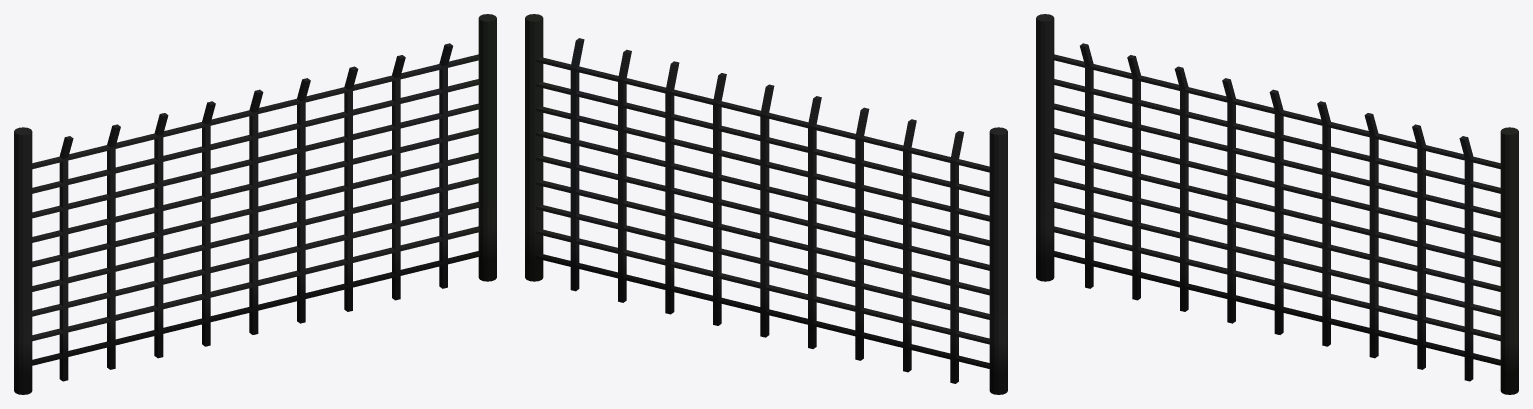
The model's file is Cerca.glb.
3 views of the same model, side by side, from view 1: azimuth 30°, elevation 25°; view 2: azimuth 150°, elevation 25°; view 3: azimuth 330°, elevation 25° (orthographic).
Parts seen in each view (by area): view 1: Cerca; view 2: Cerca; view 3: Cerca.
Part boxes in pixels (x1,y1,x2,y2): Cerca: (14,14,496,394); Cerca: (525,14,1007,394); Cerca: (1036,14,1518,394).
Size of the model in its own units: 4.09 by 2.12 by 0.1446.
Materials: 1 (1 with a texture image).
